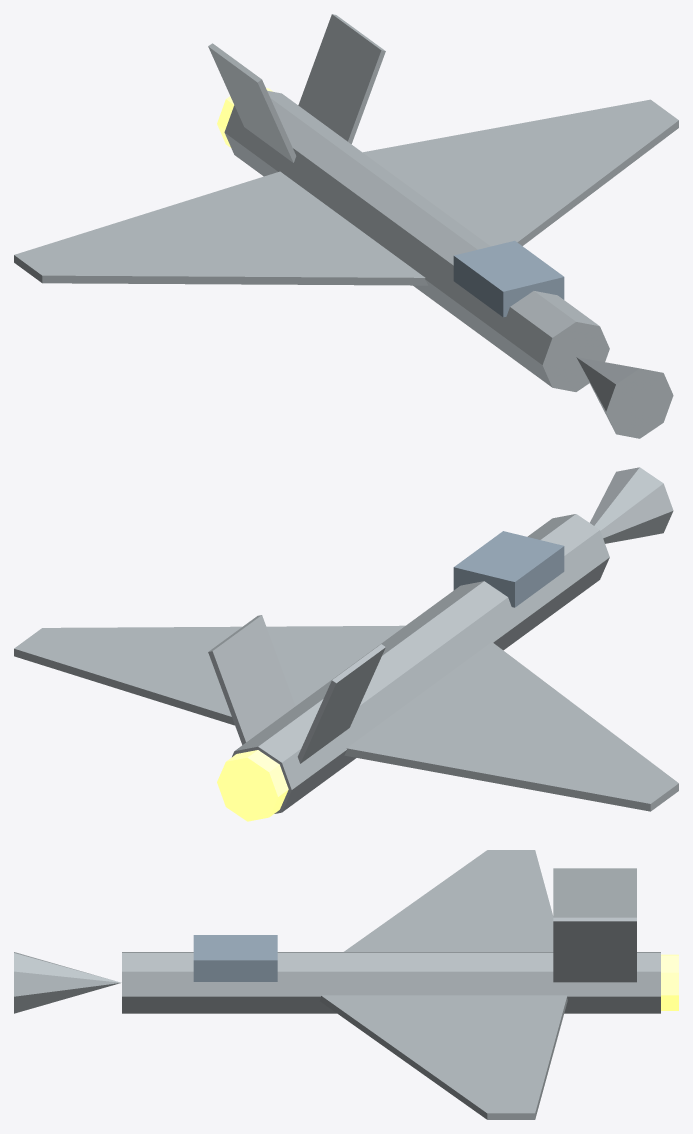
File: jet.glb
3 views of the same model, one above another, from view 1: azimuth 30°, elevation 25°; view 2: azimuth 150°, elevation 25°; view 3: azimuth 270°, elevation 25° (orthographic). The views are drawn at different scales.
Visible parts, largest first — view 1: jet; view 2: jet; view 3: jet.
Boxes of the visible parts, <box> form: jet: <box>14,14,678,438</box>; jet: <box>14,467,678,821</box>; jet: <box>14,850,678,1119</box>.
Size of the model in its own units: 10.4 by 2.2 by 11.1.
